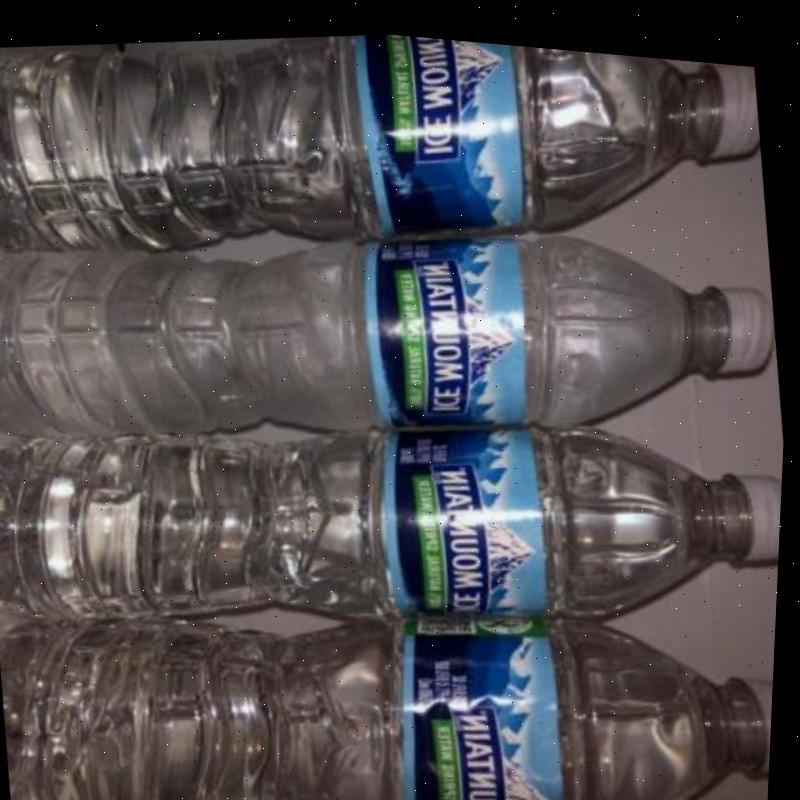botella: (0, 334, 788, 700), (0, 144, 792, 506), (0, 0, 772, 303), (0, 528, 782, 800)
